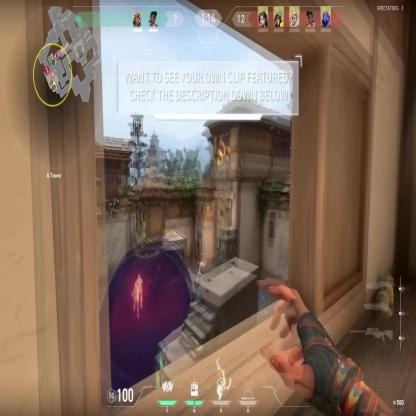enemy: (134, 274, 144, 310)
enemy_head: (138, 274, 140, 279)
